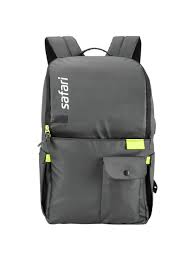backpack: (38, 34, 157, 224)
